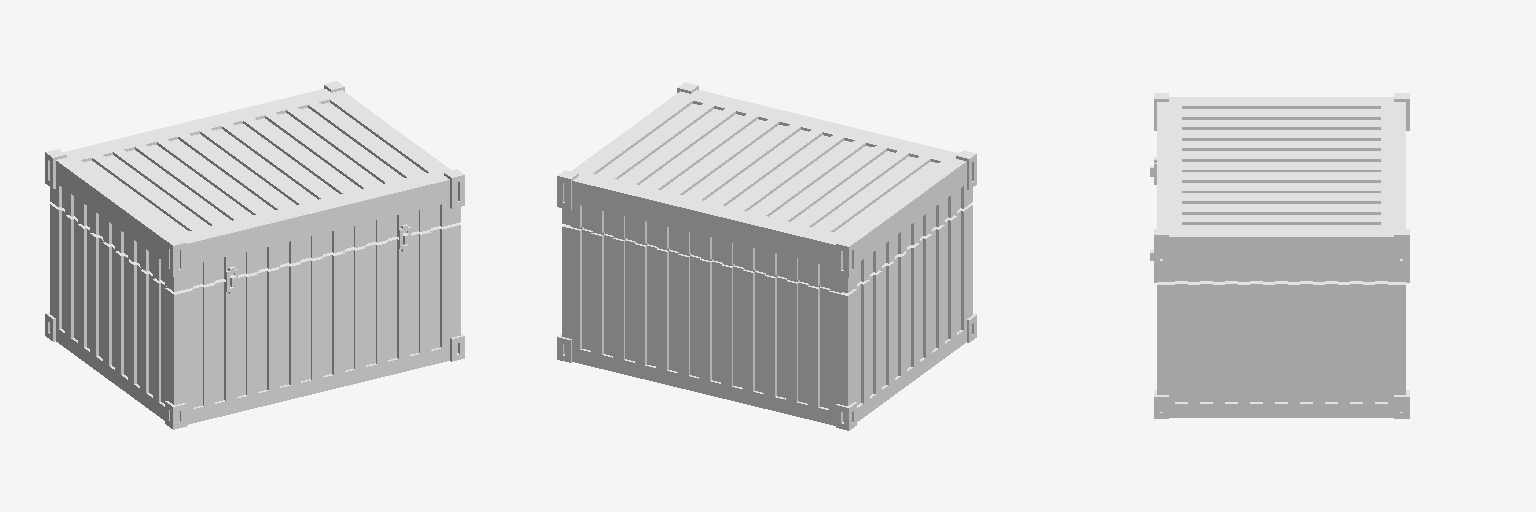
File: ContainerVermelho.obj
The picture shows the model from 3 angles: view 1: azimuth 30°, elevation 25°; view 2: azimuth 150°, elevation 25°; view 3: azimuth 270°, elevation 25°; orthographic projection.
Visible parts, largest first — view 1: object 1; view 2: object 1; view 3: object 1.
Part boxes in pixels (left/top/right/bottom): object 1: left=45, top=81, right=464, bottom=429; object 1: left=557, top=82, right=976, bottom=430; object 1: left=1150, top=93, right=1409, bottom=418.
Size of the model in its own units: 10.8 by 6.5 by 8.3.